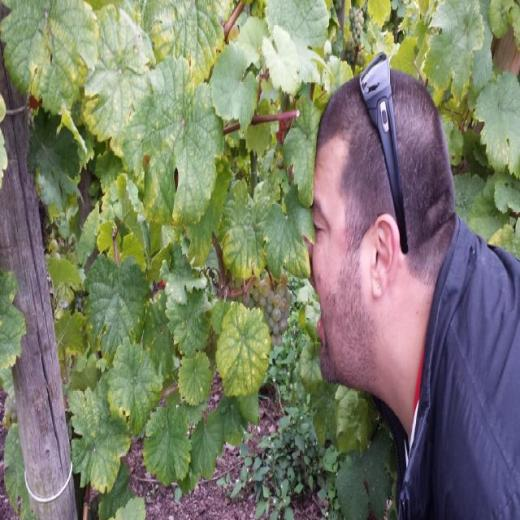Orange: (244, 272, 293, 349), (340, 6, 368, 70), (3, 397, 17, 433), (70, 290, 89, 314), (51, 238, 56, 250), (53, 253, 59, 260)
